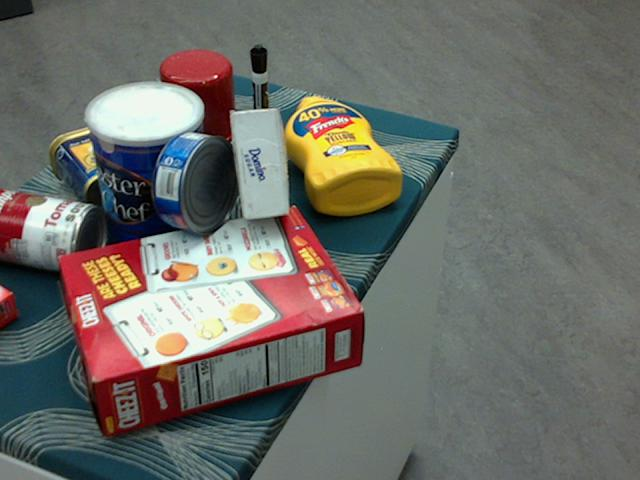cracker_box: (59, 205, 363, 435)
gelatin_box: (0, 283, 20, 328)
large_marker: (250, 44, 269, 148)
master_chef_can: (85, 83, 209, 267)
mug: (158, 50, 240, 149)
mustard_bottle: (283, 95, 402, 215)
potted_meat_can: (49, 117, 174, 214)
sugar_box: (234, 108, 288, 219)
tomato_soup_can: (0, 184, 106, 275)
tuna_fish_can: (151, 130, 239, 233)
